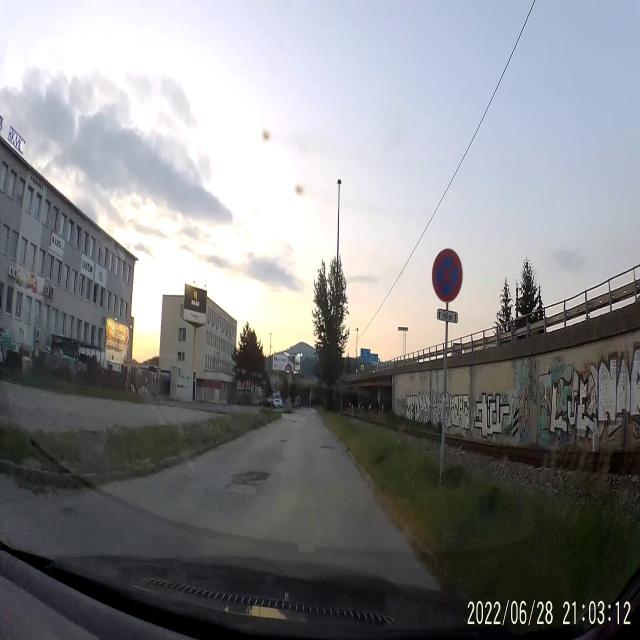Pothole: (231, 470, 272, 484), (318, 444, 336, 451), (226, 483, 231, 490), (280, 438, 286, 443), (292, 419, 298, 424)
